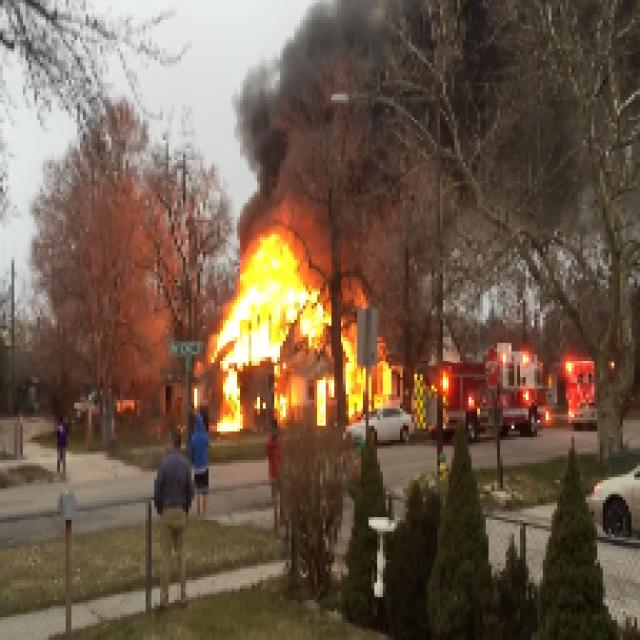fire: (204, 242, 337, 438)
